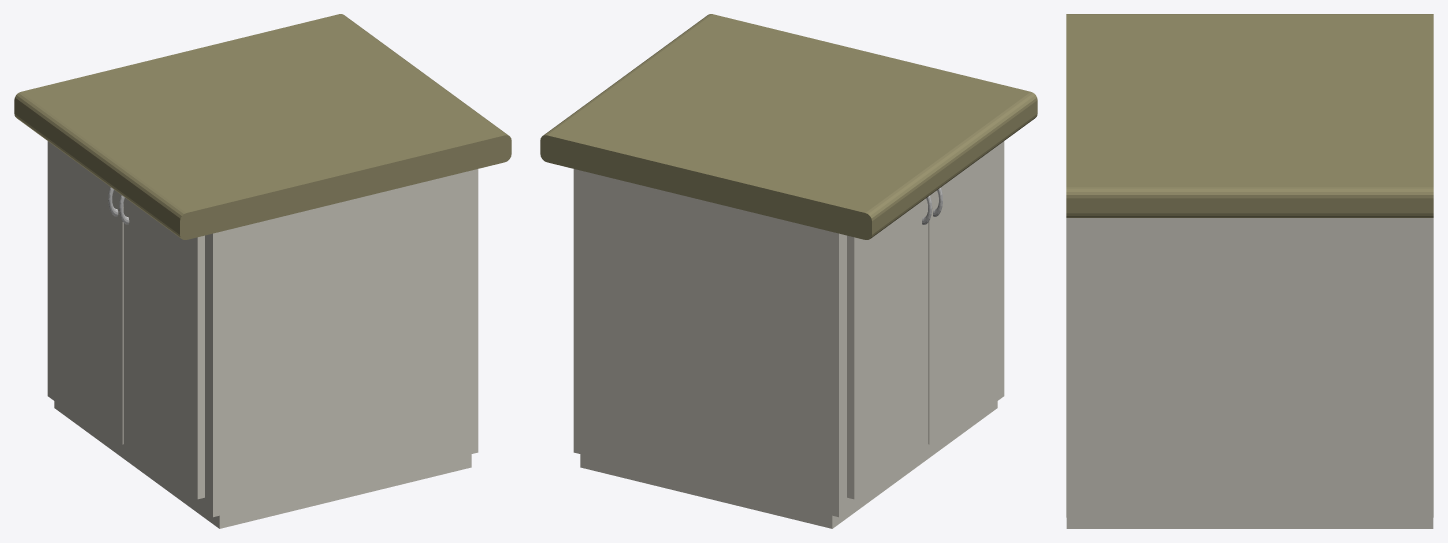
Rendered from BarCounter.fbx.
The picture shows the model from 3 angles, left to right: view 1: azimuth 30°, elevation 25°; view 2: azimuth 150°, elevation 25°; view 3: azimuth 270°, elevation 25°; orthographic projection. The views are drawn at different scales.
Parts seen in each view (by area): view 1: BarCounter; view 2: BarCounter; view 3: BarCounter.
Boxes of the visible parts, x1=… form: BarCounter: x1=14, y1=14, x2=511, y2=528; BarCounter: x1=540, y1=14, x2=1037, y2=528; BarCounter: x1=1066, y1=14, x2=1433, y2=528.
Bounding box in the file's own units: 116 × 108 × 100.
